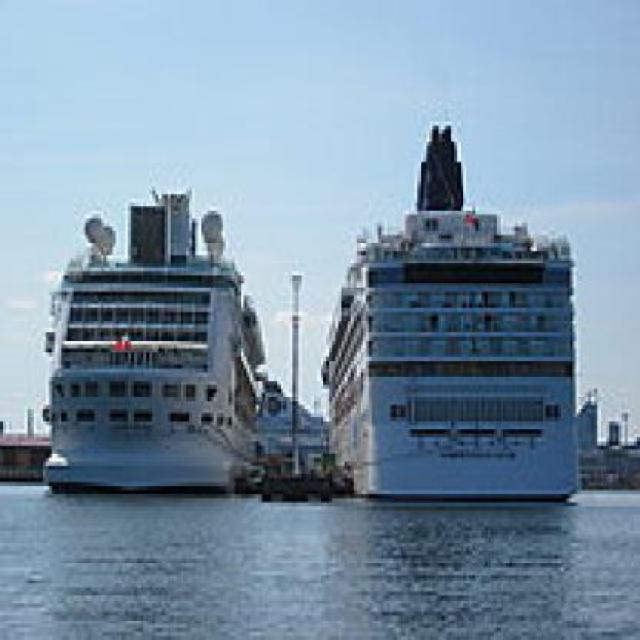cruise: (320, 107, 599, 516), (22, 171, 285, 508)
